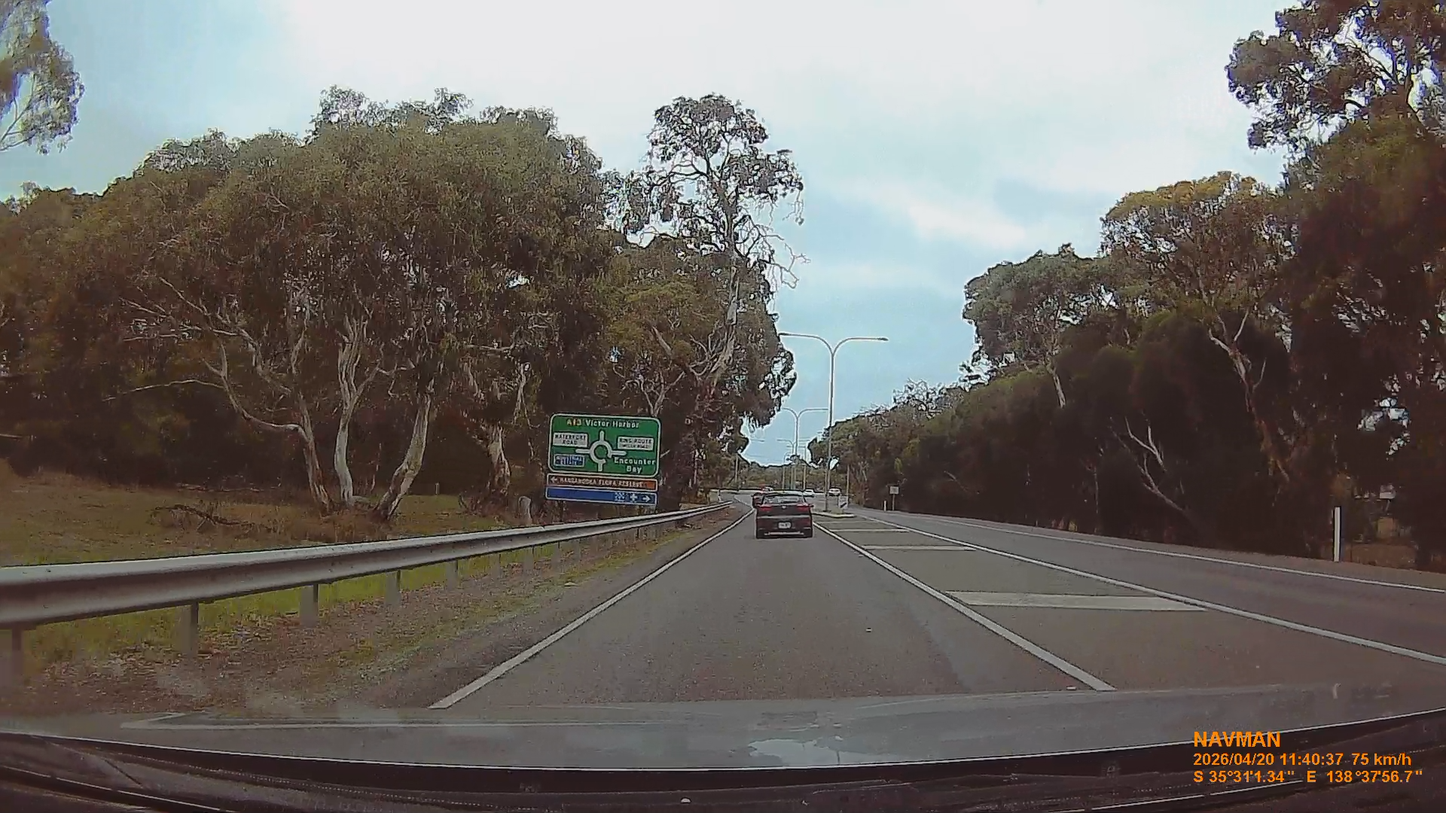road barriers: (3, 505, 731, 654)
